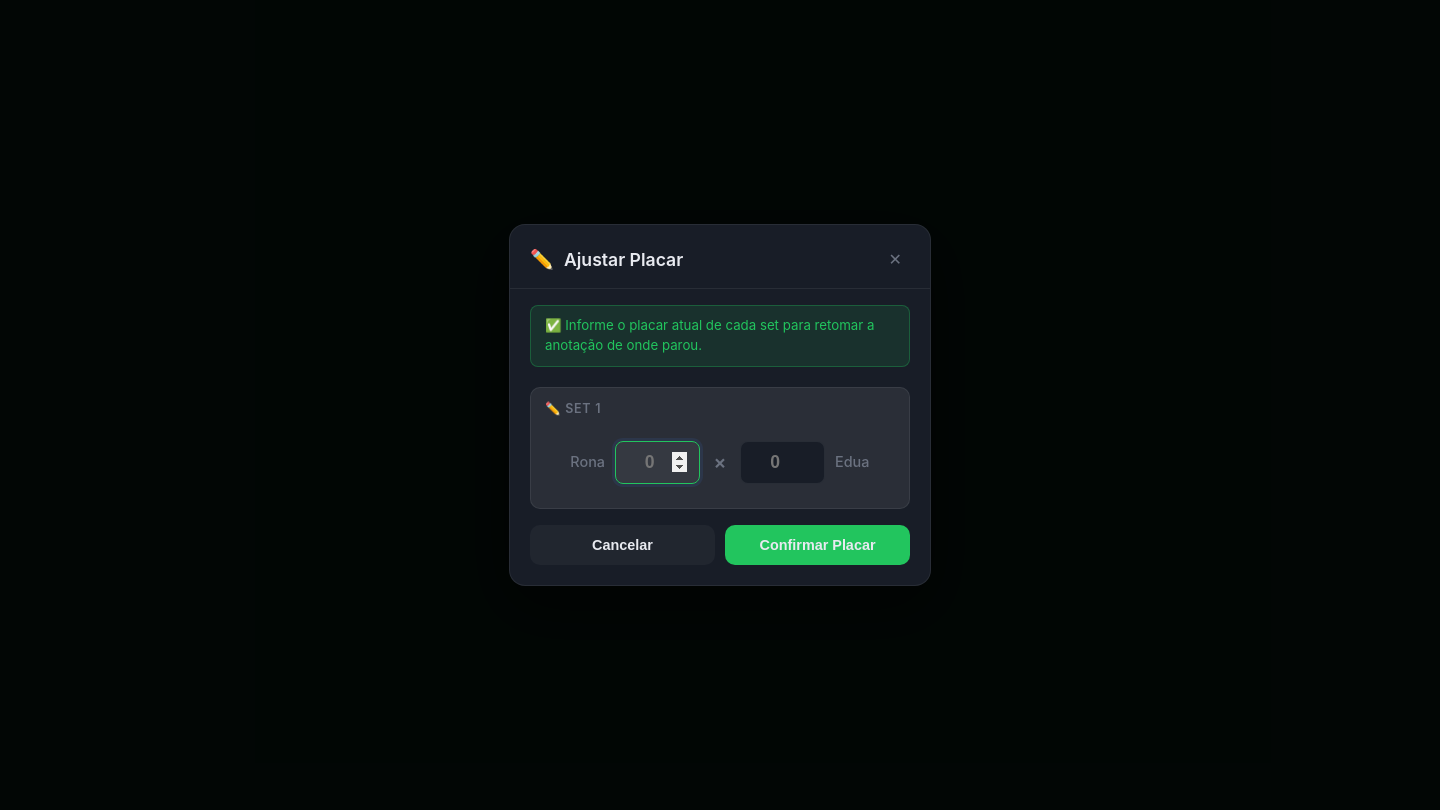
EditScoreModal - Dois Inputs Separados › should accept partial score (game in progress) like 4x2
Type "4" into the 1st number field with placeholder "0".
click(657, 462); type("4")  # box [615,441,700,484]
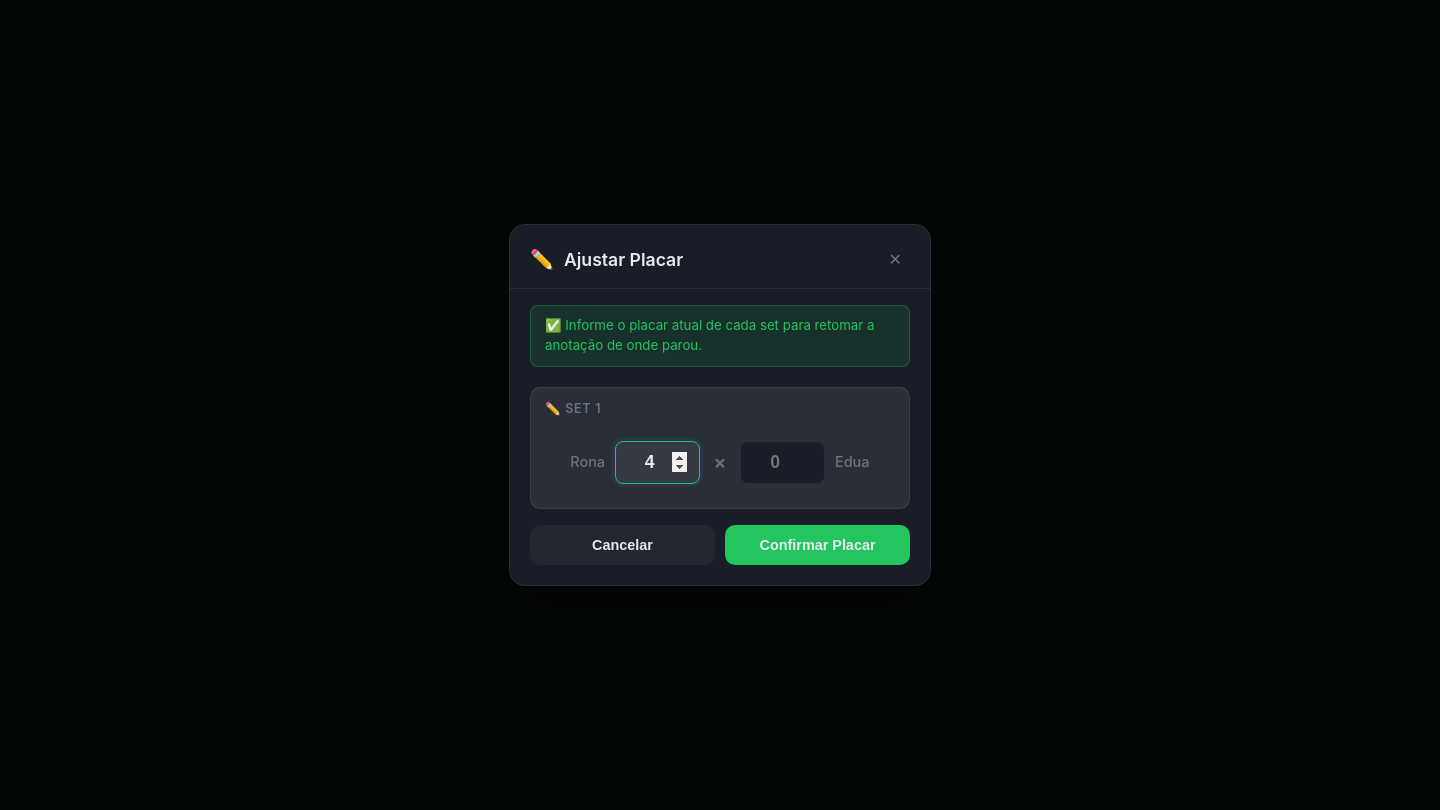
Type "2" into the number field with placeholder "0".
click(783, 462); type("2")  # box [740,441,825,484]
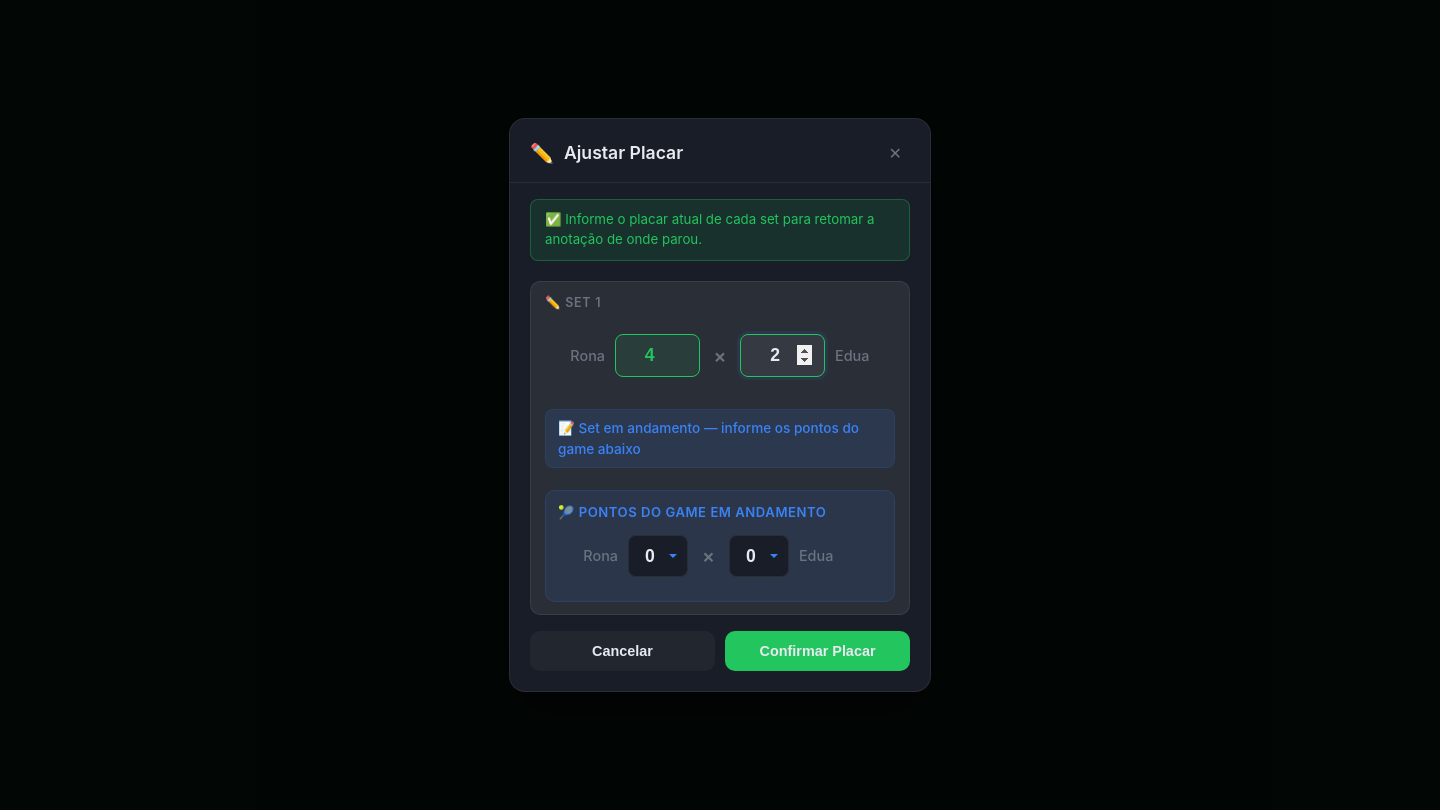
Expected: the text "📝 Set em andamento — informe os pontos do game abaixo" is shown, [545,409,895,468]
